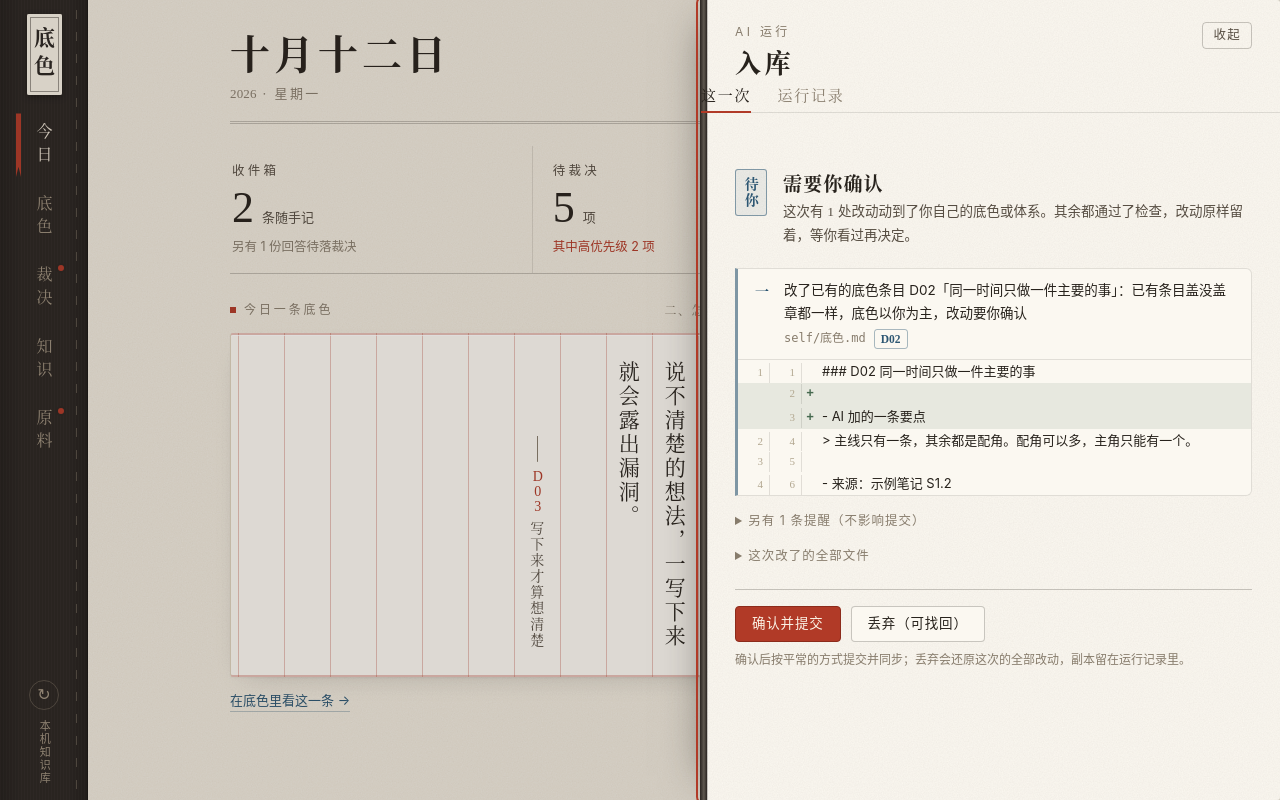
Test case: a run that waits for the user's approval › 确认并提交 commits as approved; 丢弃 discards
Click the button "确认并提交" at x=788, y=624, box [735,606,841,642]
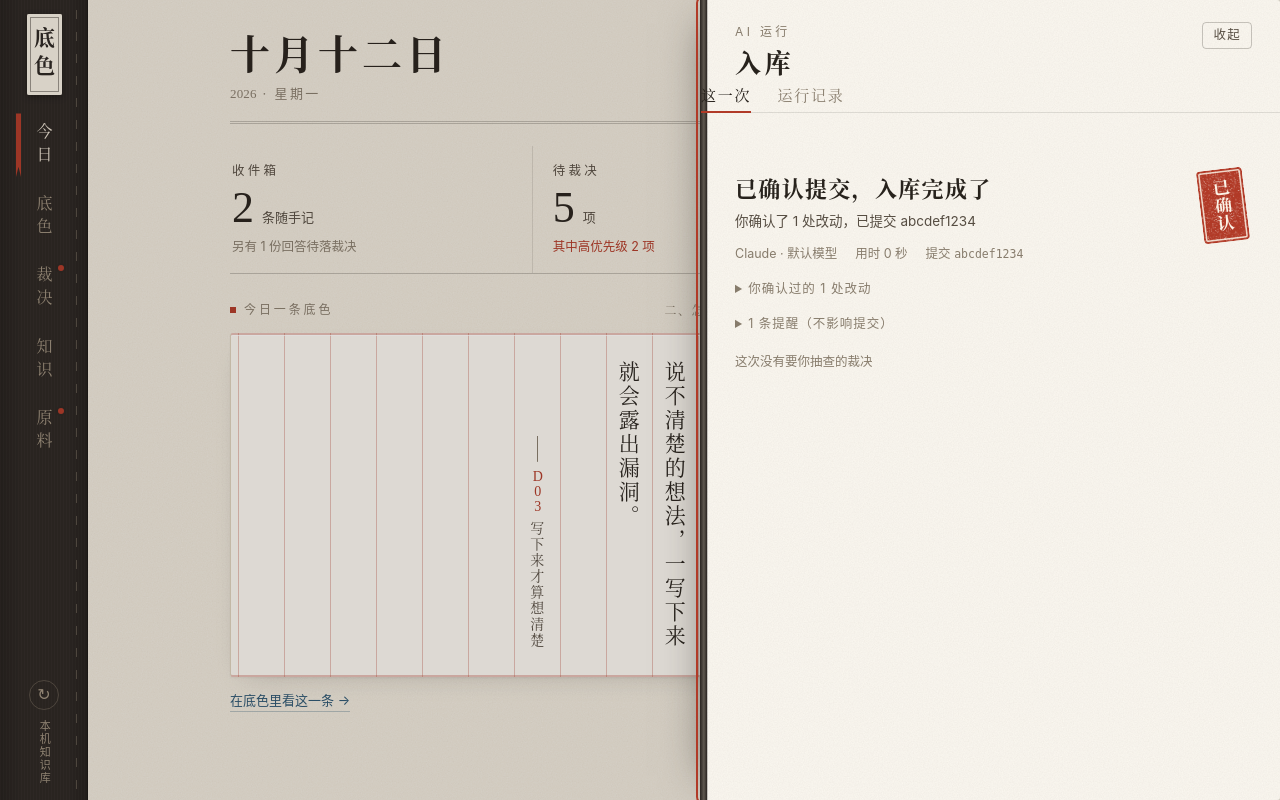
Result: the element with class "run-result" shows "你确认了 1 处改动" at [735,213,976,229]
